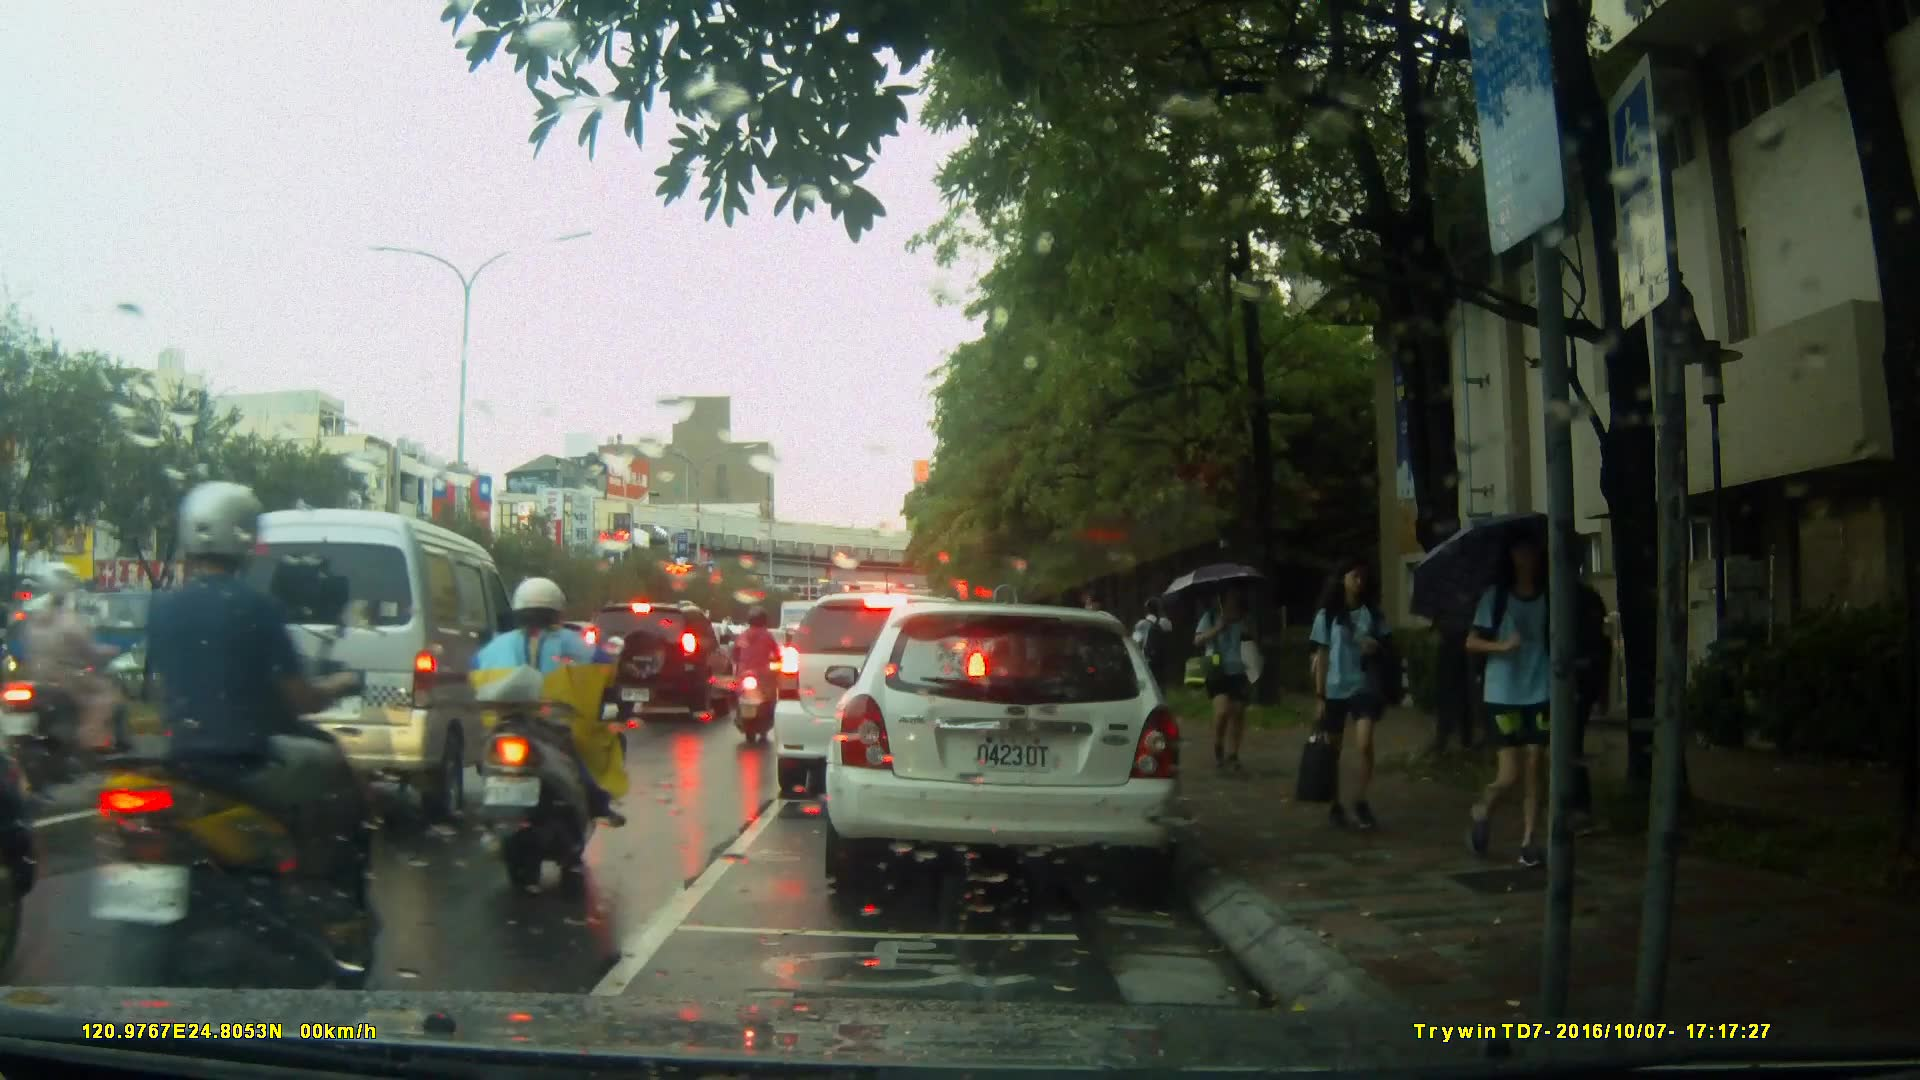pedestrian: (1435, 527, 1578, 879), (1523, 532, 1631, 853), (1297, 555, 1396, 844), (1182, 577, 1256, 782)
rider: (77, 479, 372, 1033), (462, 575, 627, 899), (18, 556, 155, 824), (727, 603, 784, 742)
vehicle: (815, 593, 1204, 909), (197, 506, 522, 834), (770, 590, 994, 802), (577, 603, 737, 726)
